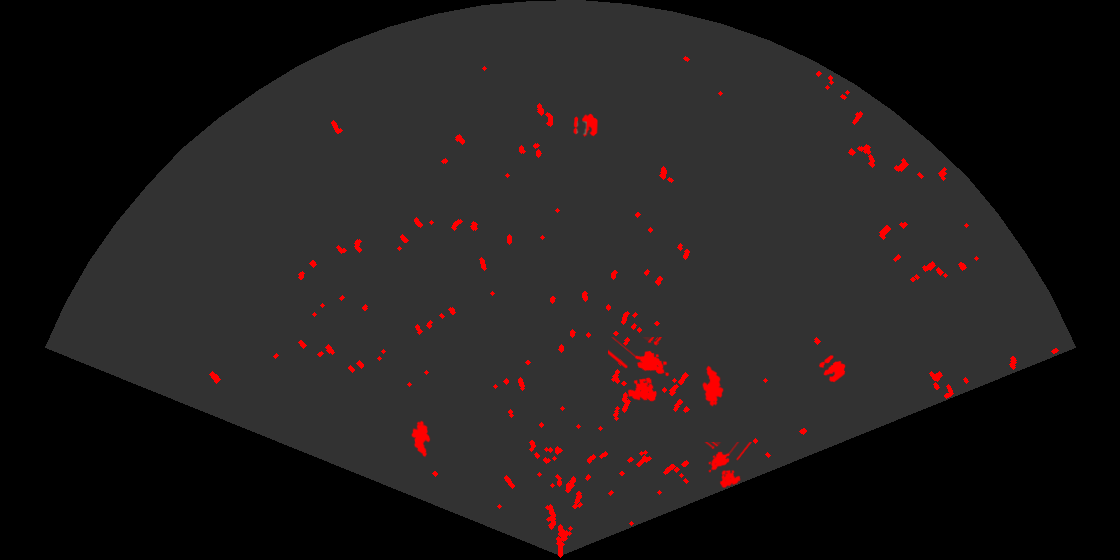AUV: (700, 364, 725, 408), (410, 419, 432, 459)
ball: (817, 353, 847, 384), (572, 112, 599, 139)
cage: (608, 337, 671, 403), (703, 442, 753, 490)
